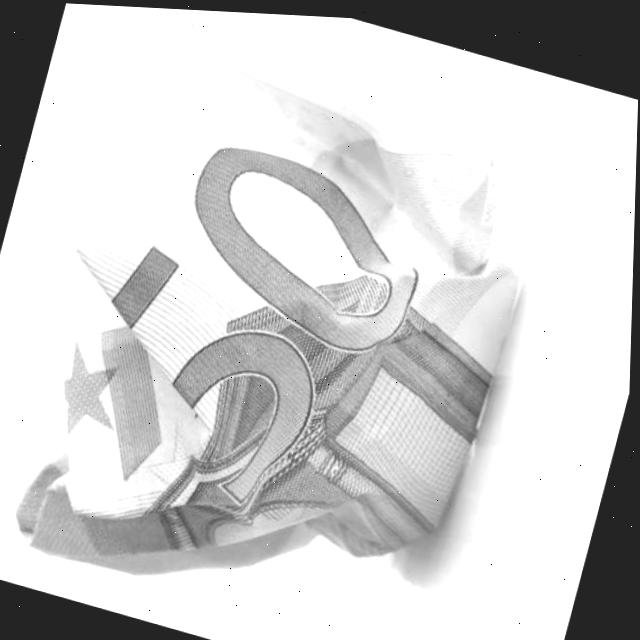banknote: (0, 0, 580, 640), (19, 88, 448, 536)
